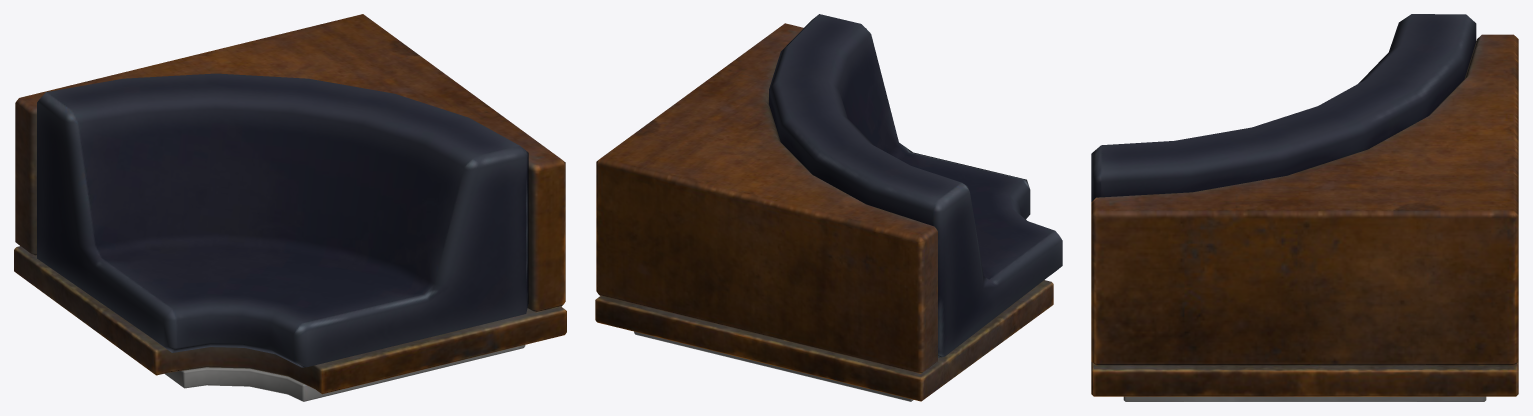
Rendered from SM_SofaCorner001.glb.
3 views of the same model, side by side, from view 1: azimuth 30°, elevation 25°; view 2: azimuth 150°, elevation 25°; view 3: azimuth 270°, elevation 25° (orthographic). The views are drawn at different scales.
Parts seen in each view (by area): view 1: SM_SofaCorner001; view 2: SM_SofaCorner001; view 3: SM_SofaCorner001.
Boxes of the visible parts, x1,y1,x2,y2 form: SM_SofaCorner001: [14, 14, 566, 401]; SM_SofaCorner001: [595, 14, 1062, 401]; SM_SofaCorner001: [1091, 14, 1518, 401].
Size of the model in its own units: 2 by 1.17 by 2.
Materials: 1 (1 with a texture image).
